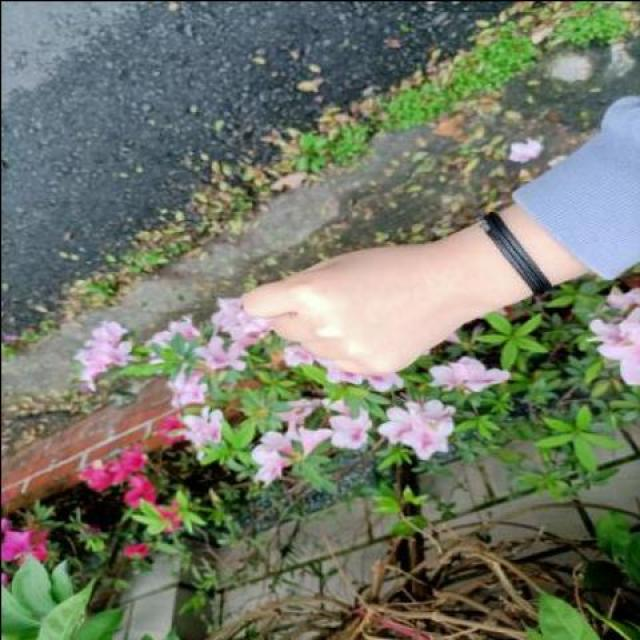Closed Hand: (241, 220, 462, 377)
